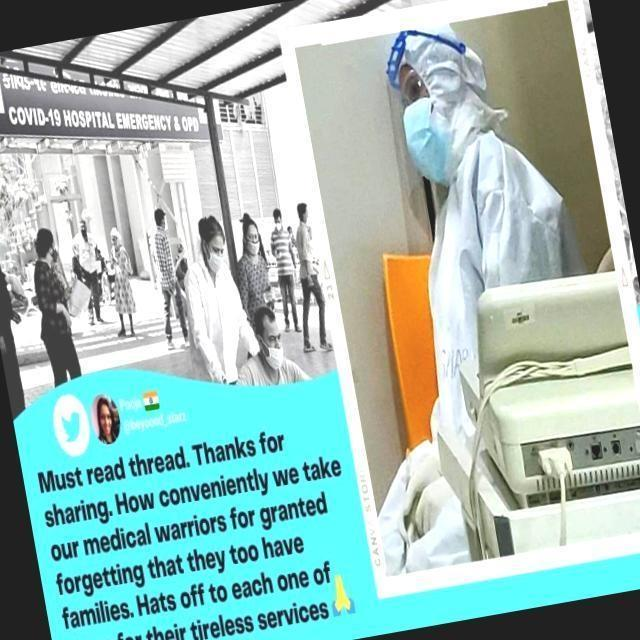mask: (400, 110, 462, 181)
